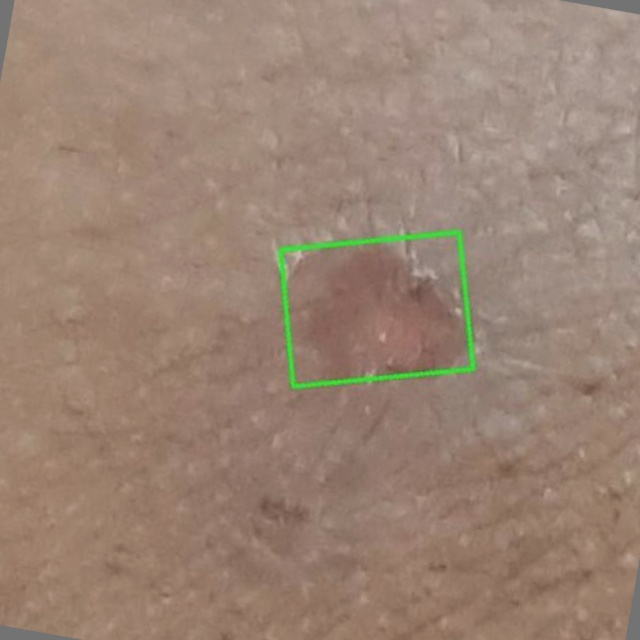Atopic Dermatitis: (280, 233, 473, 386)
